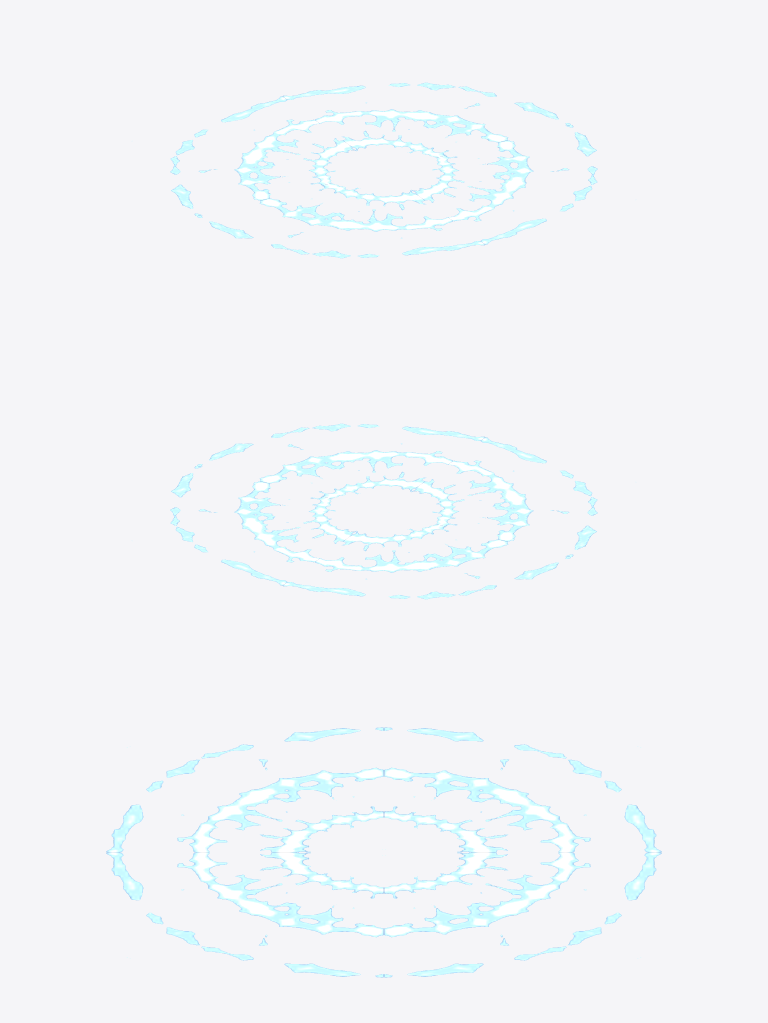
The model's file is waterDrop.glb.
3 views of the same model, one above another, from view 1: azimuth 30°, elevation 25°; view 2: azimuth 150°, elevation 25°; view 3: azimuth 270°, elevation 25° (orthographic). The views are drawn at different scales.
Parts seen in each view (by area): view 1: Frame_1, Frame_1.002, Frame_1.001, Frame_1.003; view 2: Frame_1.001, Frame_1.003, Frame_1, Frame_1.002; view 3: Frame_1, Frame_1.001, Frame_1.002, Frame_1.003.
Boxes of the visible parts, x1,y1,x2,y2 form: Frame_1: (197, 183, 484, 258); Frame_1.002: (283, 82, 570, 157); Frame_1.001: (411, 125, 597, 244); Frame_1.003: (170, 96, 356, 215); Frame_1.001: (197, 423, 484, 498); Frame_1.003: (283, 524, 570, 599); Frame_1: (411, 437, 597, 556); Frame_1.002: (170, 466, 356, 585); Frame_1: (106, 727, 383, 852); Frame_1.001: (106, 852, 383, 977); Frame_1.002: (384, 852, 661, 977); Frame_1.003: (384, 727, 661, 852).
Bounding box in the file's own units: 2 × 0 × 2.
Materials: 1 (1 with a texture image).
